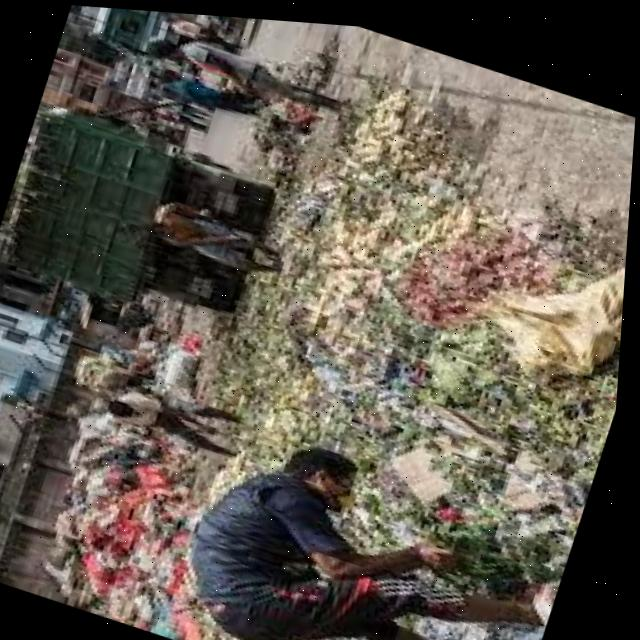Wet: (228, 63, 637, 517), (236, 130, 468, 458)
